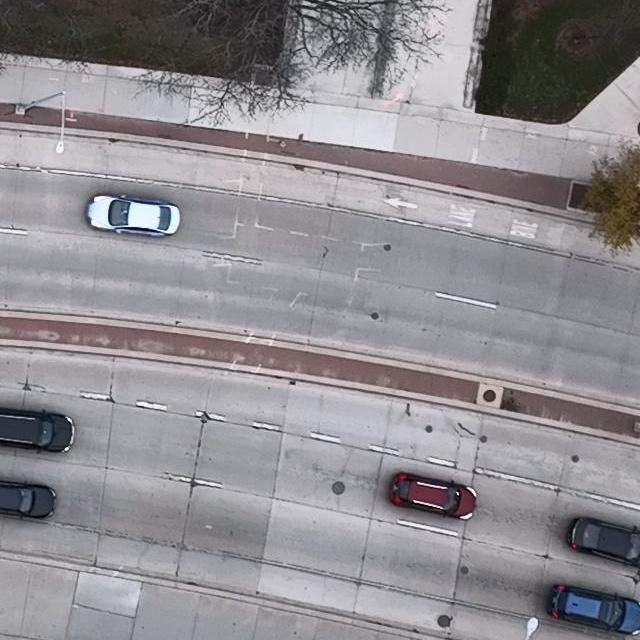car: (546, 583, 640, 639), (388, 471, 478, 519), (86, 193, 181, 236), (565, 515, 640, 565), (0, 405, 76, 454), (0, 480, 56, 520)
